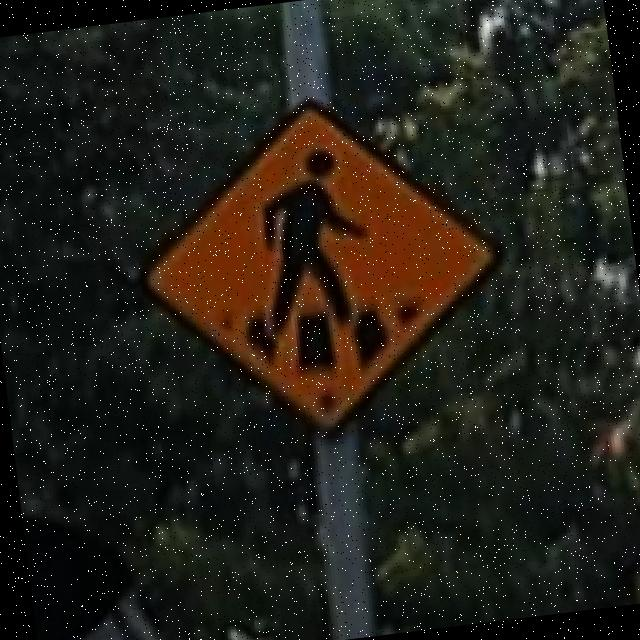Przejscie dla pieszych: (143, 89, 500, 426)
